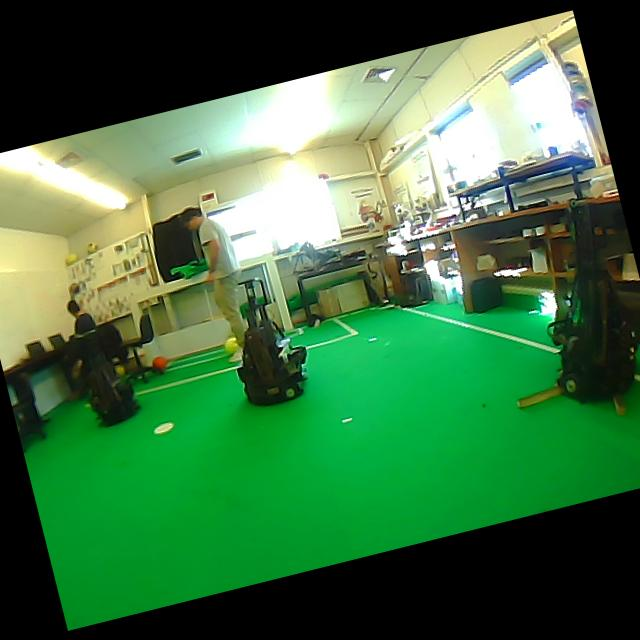ball: (223, 334, 239, 353), (151, 356, 166, 373), (65, 252, 78, 265), (86, 241, 98, 252), (115, 365, 125, 375)
goal: (265, 255, 293, 331)
robot: (550, 203, 637, 402), (237, 280, 306, 404), (88, 363, 139, 426)
